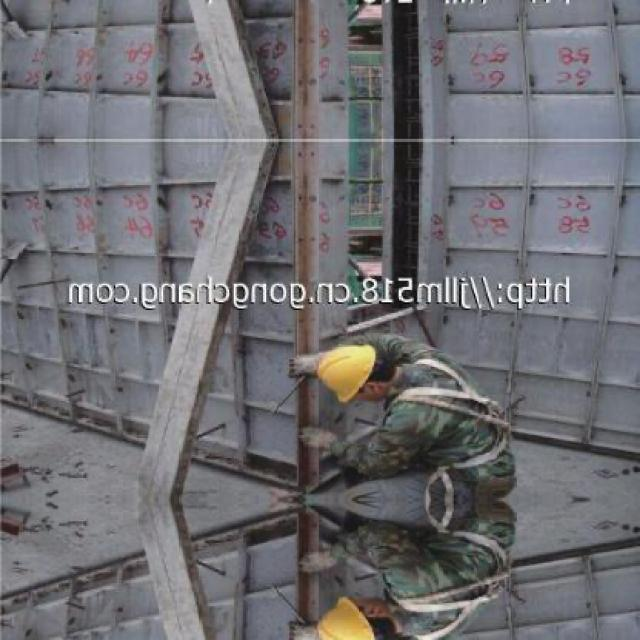helmet: (308, 342, 390, 409), (306, 592, 391, 639)
